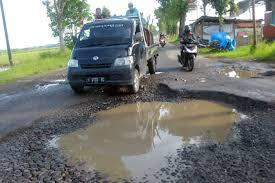Pothole: (8, 88, 274, 182), (200, 51, 274, 83)
